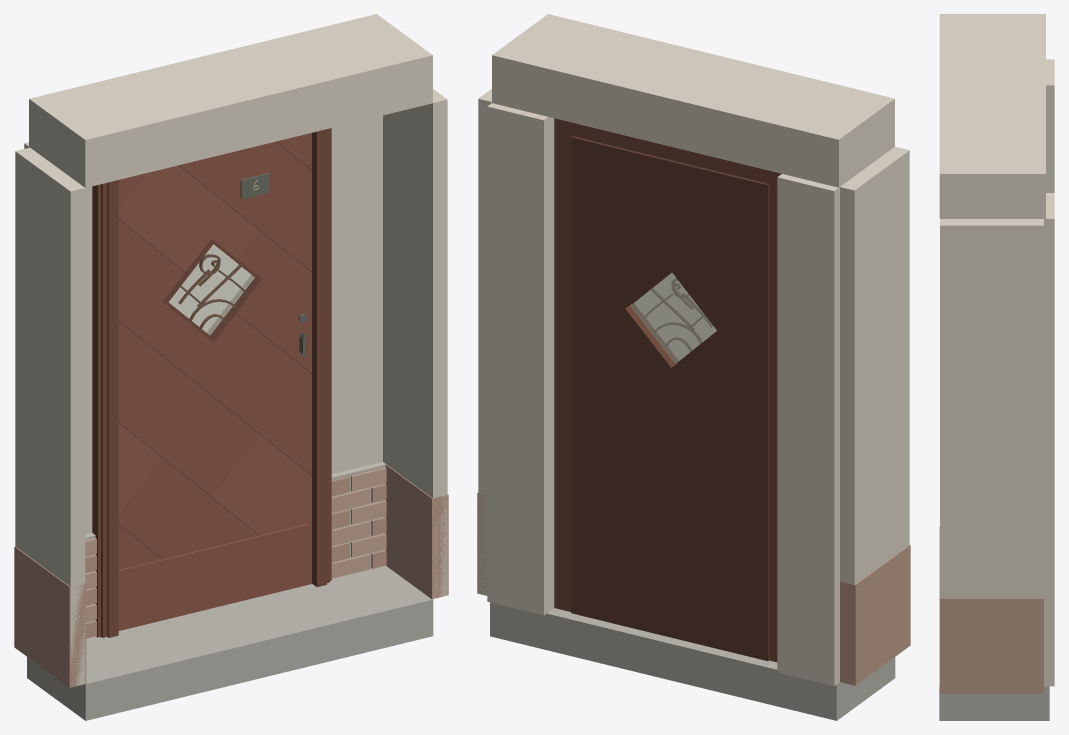
Rendered from xuhui-yuyuan-six-rear-diamond-door-lod.glb.
3 views of the same model, side by side, from view 1: azimuth 30°, elevation 25°; view 2: azimuth 150°, elevation 25°; view 3: azimuth 270°, elevation 25° (orthographic). The views are drawn at different scales.
Visible parts, largest first — view 1: 愉园6号后门菱窗与卷草铁艺; view 2: 愉园6号后门菱窗与卷草铁艺; view 3: 愉园6号后门菱窗与卷草铁艺.
Part boxes in pixels (left/top/right/bottom): 愉园6号后门菱窗与卷草铁艺: left=14, top=14, right=448, bottom=720; 愉园6号后门菱窗与卷草铁艺: left=477, top=14, right=910, bottom=720; 愉园6号后门菱窗与卷草铁艺: left=939, top=14, right=1054, bottom=720.
Size of the model in its own units: 1.9 by 2.78 by 0.533.
